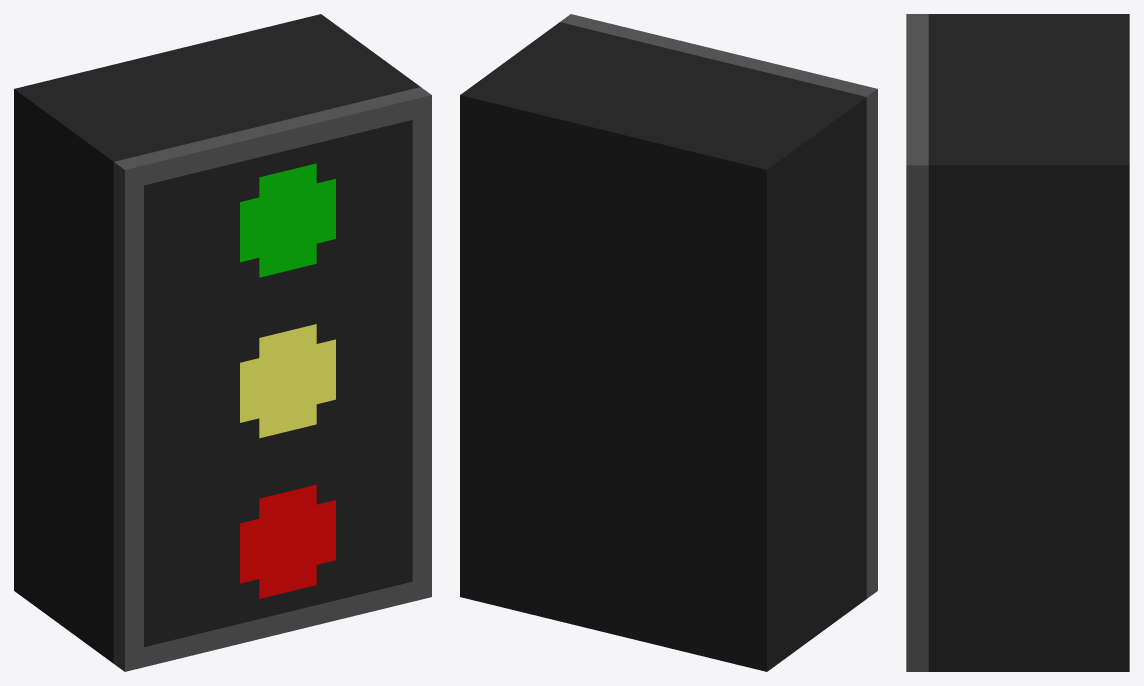
Rendered from semaforo_top.obj.
3 views of the same model, side by side, from view 1: azimuth 30°, elevation 25°; view 2: azimuth 150°, elevation 25°; view 3: azimuth 270°, elevation 25° (orthographic).
Bounding box in the file's own units: 1.6 × 2.5 × 1.
1 material, 1 textured.
